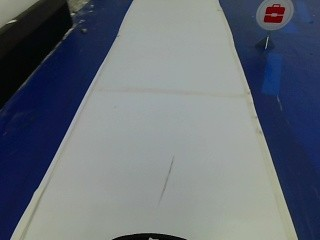company: (253, 0, 292, 30)
